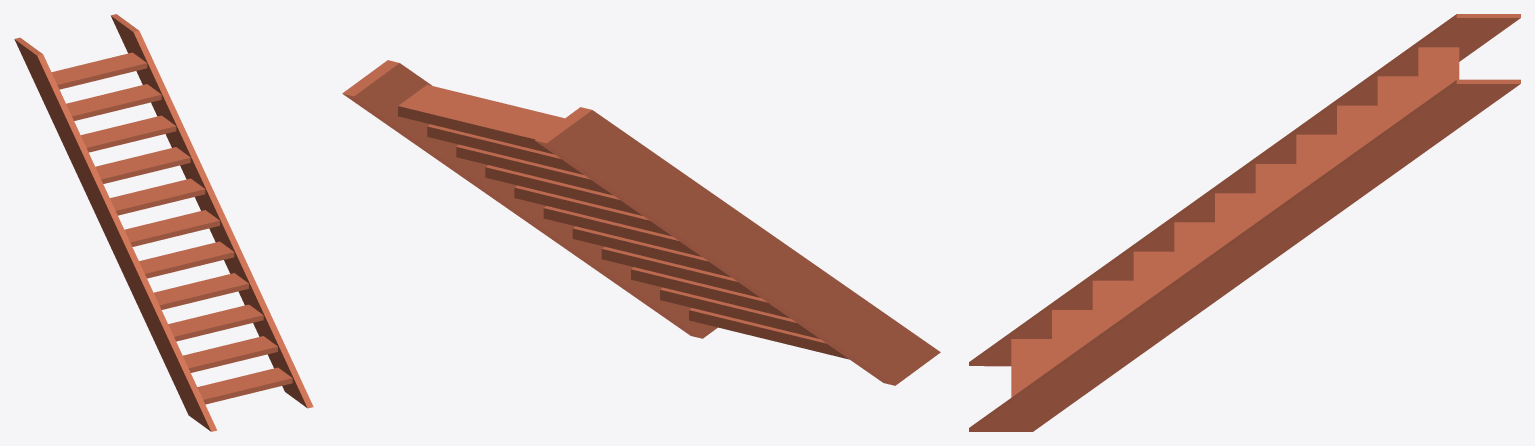
The model's file is Stairs_033.glb.
The picture shows the model from 3 angles, left to right: view 1: azimuth 30°, elevation 25°; view 2: azimuth 150°, elevation 25°; view 3: azimuth 270°, elevation 25°; orthographic projection. The views are drawn at different scales.
Parts seen in each view (by area): view 1: Stairs_033; view 2: Stairs_033; view 3: Stairs_033.
Part boxes in pixels (left/top/right/bottom): Stairs_033: left=14, top=14, right=313, bottom=431; Stairs_033: left=342, top=60, right=940, bottom=385; Stairs_033: left=969, top=14, right=1520, bottom=431.
Size of the model in its own units: 1.72 by 4 by 5.74.
1 material, 1 textured.
